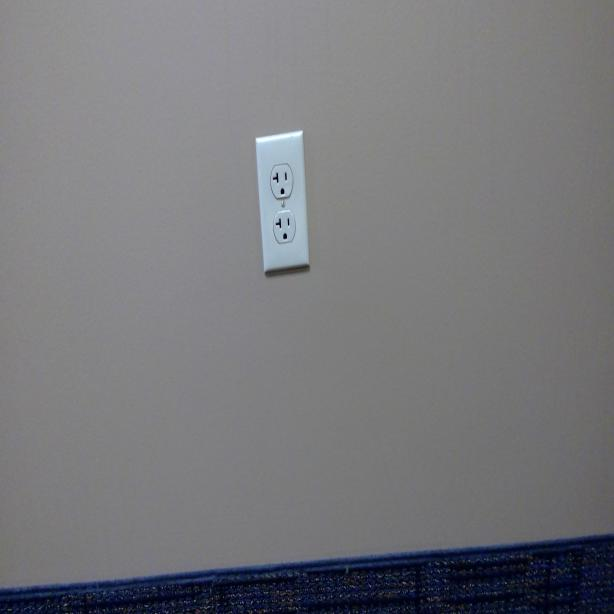typeb: (272, 166, 292, 198), (274, 212, 293, 244)
